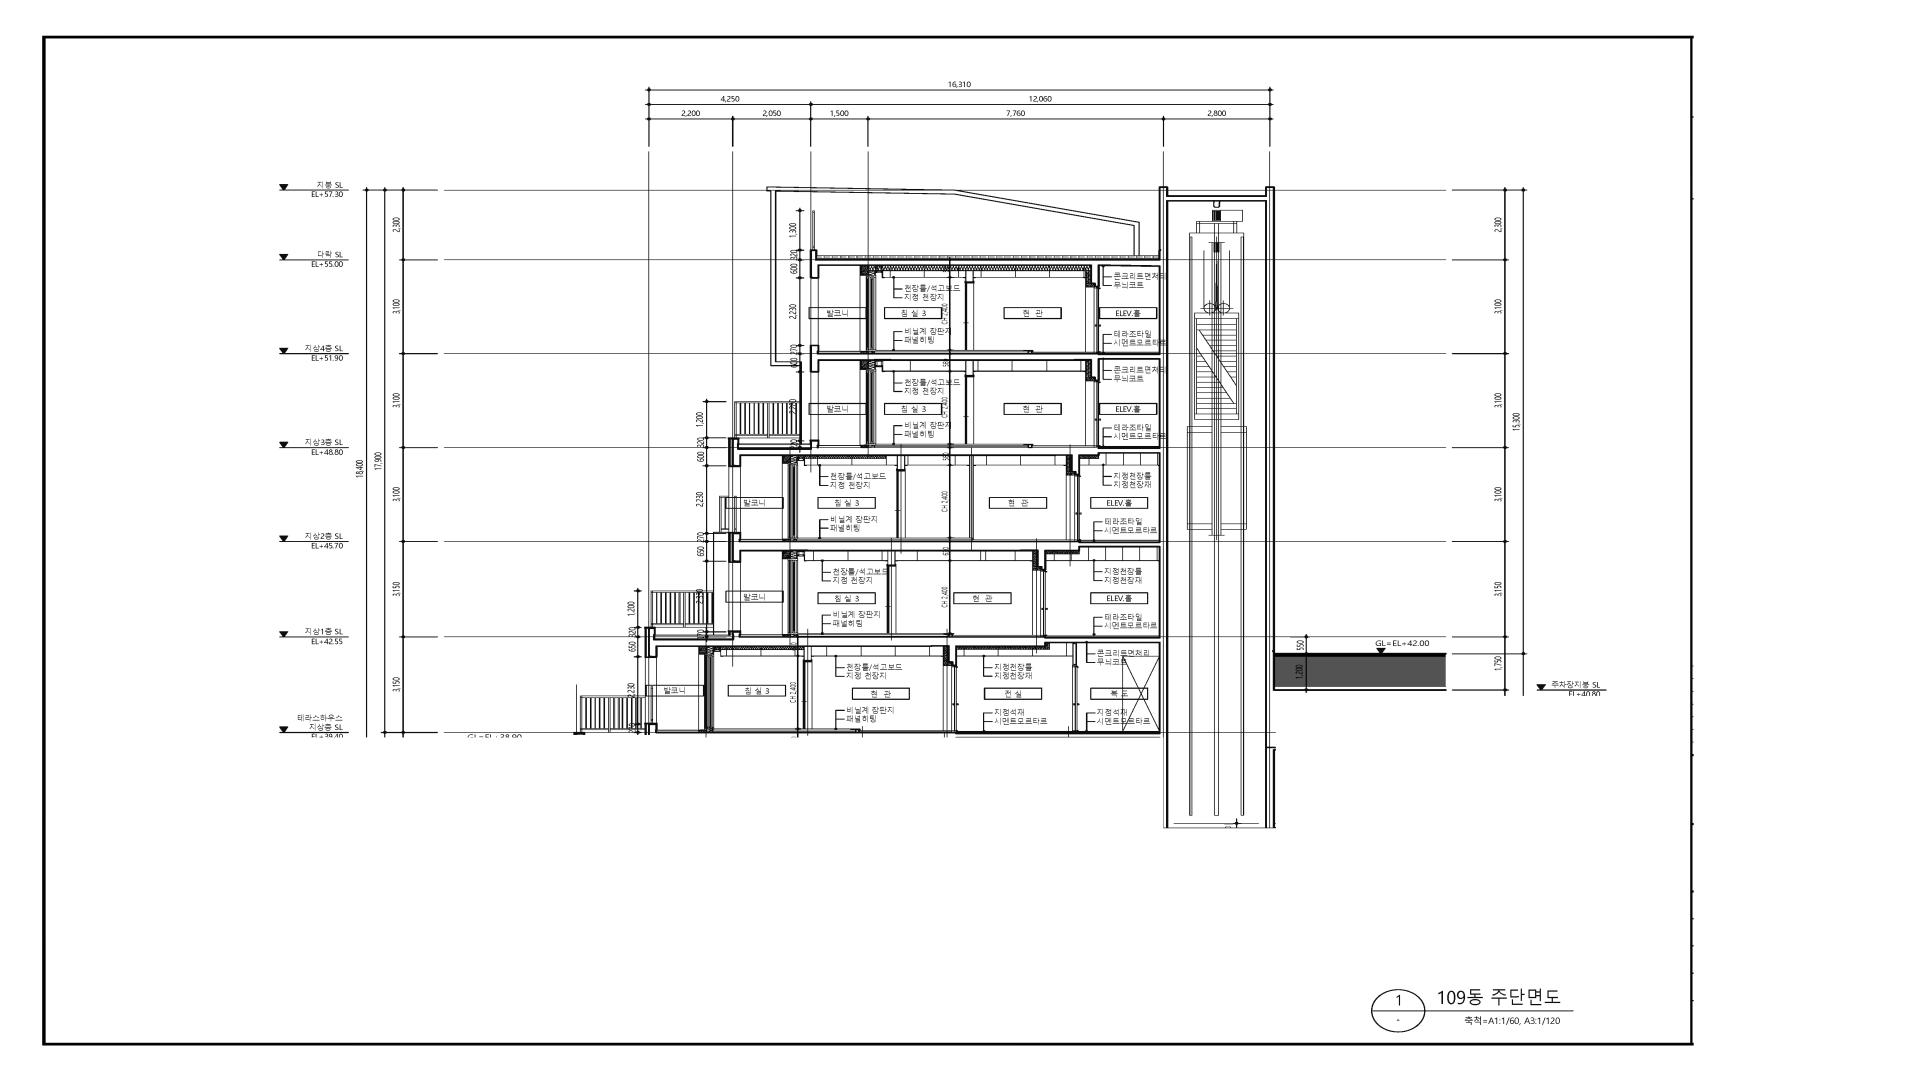door: (886, 564, 897, 634), (895, 469, 906, 538), (964, 376, 975, 444), (964, 282, 975, 351), (803, 661, 812, 729), (1073, 475, 1080, 541), (1040, 571, 1047, 637), (951, 666, 957, 732), (1093, 287, 1100, 352), (1093, 381, 1100, 446), (1072, 666, 1077, 731)
wall: (645, 186, 1275, 828), (965, 361, 975, 376), (803, 646, 812, 661), (1072, 644, 1077, 665), (887, 551, 895, 564), (897, 456, 905, 469), (965, 270, 973, 282), (860, 266, 869, 276), (860, 361, 869, 369), (698, 647, 708, 654), (782, 456, 791, 463), (782, 551, 791, 558)
window: (782, 558, 798, 636), (860, 369, 876, 446), (782, 463, 798, 539), (698, 654, 713, 731), (860, 276, 876, 352), (728, 563, 741, 630), (645, 658, 658, 723), (728, 467, 741, 531), (810, 278, 819, 345), (810, 373, 819, 439)
